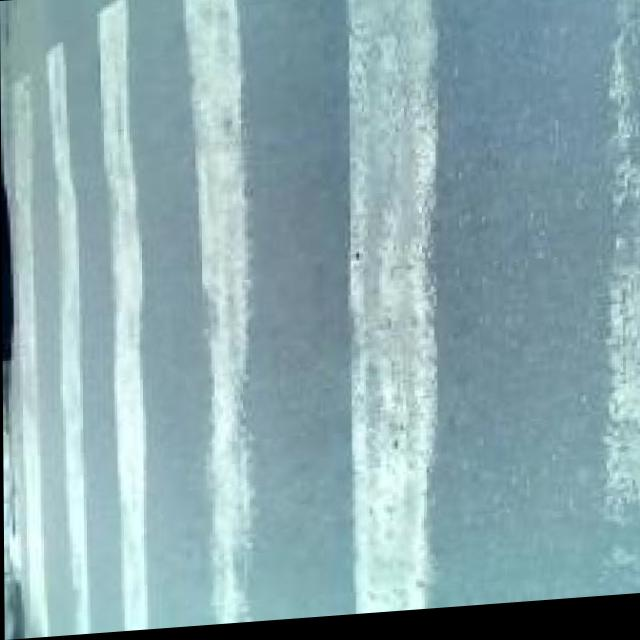zebra: (14, 0, 640, 636)
